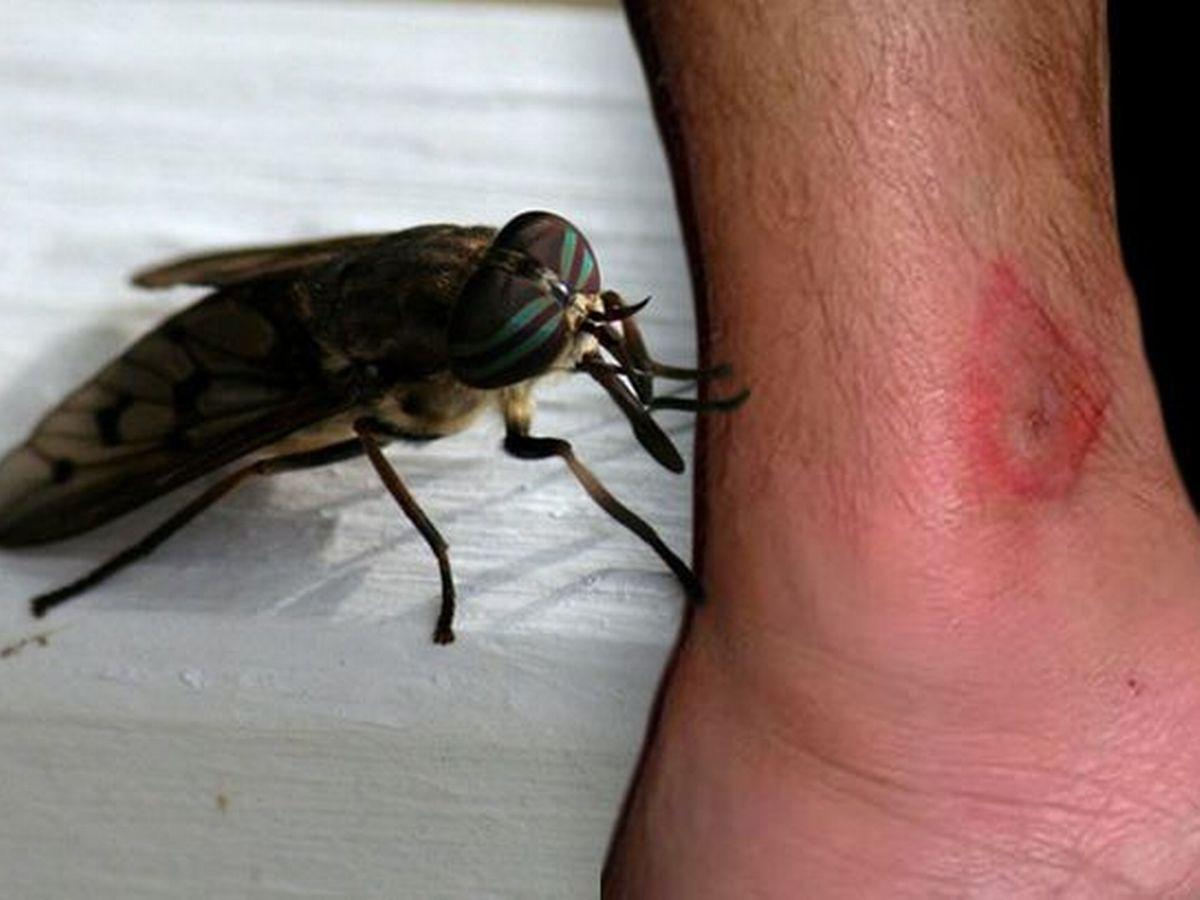Midges: (901, 220, 1154, 537)
